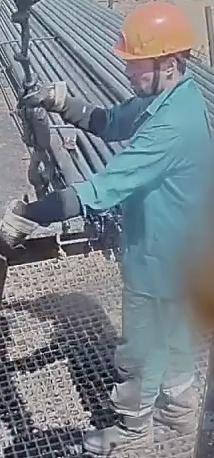gloves: (0, 195, 44, 264), (18, 80, 72, 117)
helmet: (112, 0, 197, 67)
vest: (108, 76, 214, 303)
